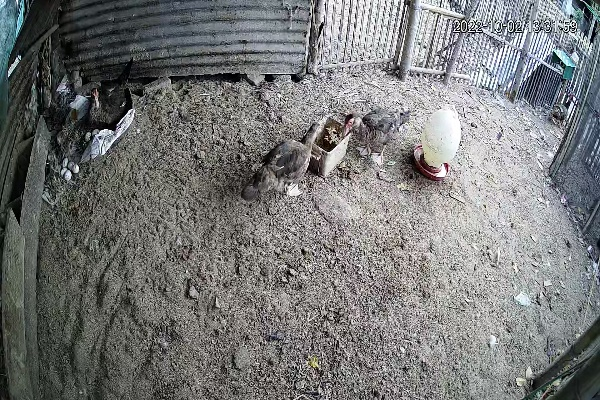Entog: (231, 112, 326, 220), (333, 97, 422, 170), (548, 90, 578, 124)
